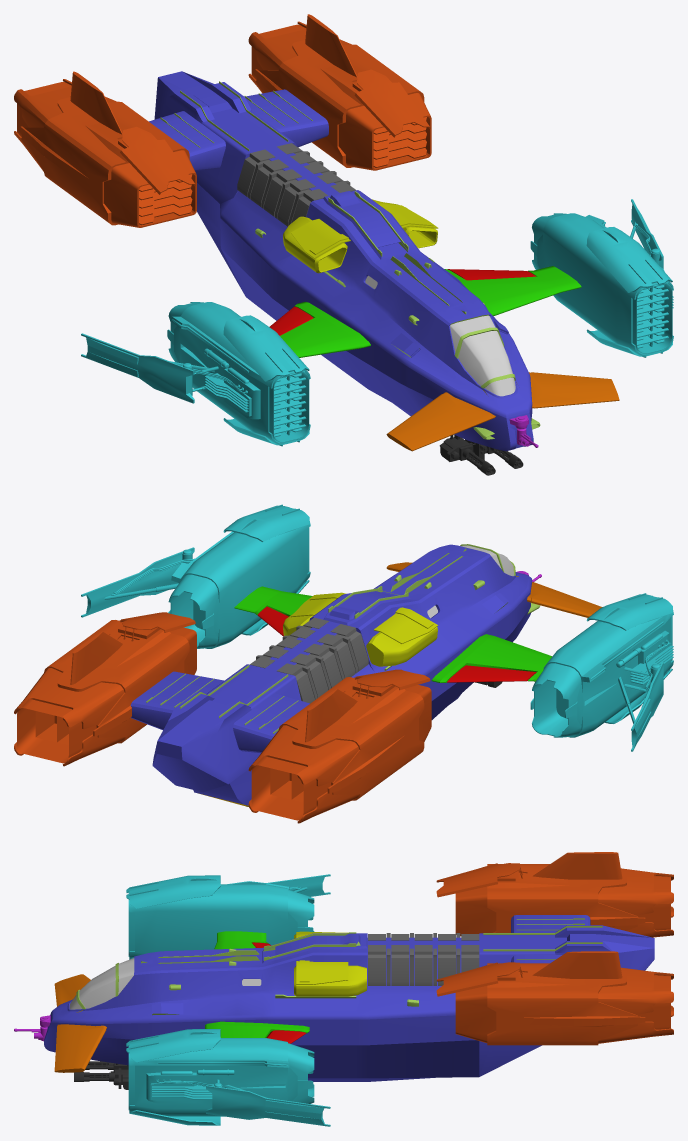
Rendered from Vtol.fbx.
The picture shows the model from 3 angles, top to bottom: view 1: azimuth 30°, elevation 25°; view 2: azimuth 150°, elevation 25°; view 3: azimuth 270°, elevation 25°; orthographic projection. The views are drawn at different scales.
Visible parts, largest first — view 1: Body, RearEngine, Engine, Wing, FrontalWings, Cargo, AirIntakes, Windows, Details, Gun, Winglet; view 2: RearEngine, Body, Engine, Cargo, Wing, AirIntakes, Details, Winglet, FrontalWings; view 3: Body, RearEngine, Engine, Cargo, Details, FrontalWings, AirIntakes, Wing, Windows, Gun, Winglet.
Part boxes in pixels (box(x1,y1,x2,y2)): Body: box(149, 71, 533, 451); RearEngine: box(14, 14, 431, 227); Engine: box(81, 199, 673, 446); Wing: box(280, 266, 581, 357); FrontalWings: box(386, 372, 619, 451); Cargo: box(237, 143, 355, 226); AirIntakes: box(283, 199, 438, 273); Windows: box(365, 275, 515, 396); Details: box(160, 81, 540, 439); Gun: box(439, 435, 523, 475); Winglet: box(269, 269, 535, 335); RearEngine: box(14, 612, 431, 823); Body: box(130, 544, 532, 805); Engine: box(81, 504, 673, 751); Cargo: box(250, 617, 368, 703); Wing: box(234, 586, 551, 682); AirIntakes: box(283, 592, 438, 666); Details: box(146, 544, 540, 733); Winglet: box(257, 606, 536, 682); FrontalWings: box(386, 562, 602, 617); Body: box(44, 915, 654, 1081); RearEngine: box(436, 852, 673, 1045); Engine: box(126, 874, 330, 1126); Cargo: box(368, 933, 479, 985); Details: box(76, 918, 602, 1015); FrontalWings: box(54, 974, 106, 1072); AirIntakes: box(294, 931, 366, 996); Wing: box(205, 931, 309, 1037); Windows: box(69, 958, 261, 1009); Gun: box(74, 1061, 128, 1089); Winglet: box(252, 942, 306, 1043).
Bounding box in the file's own units: 1386 × 492 × 1656.
